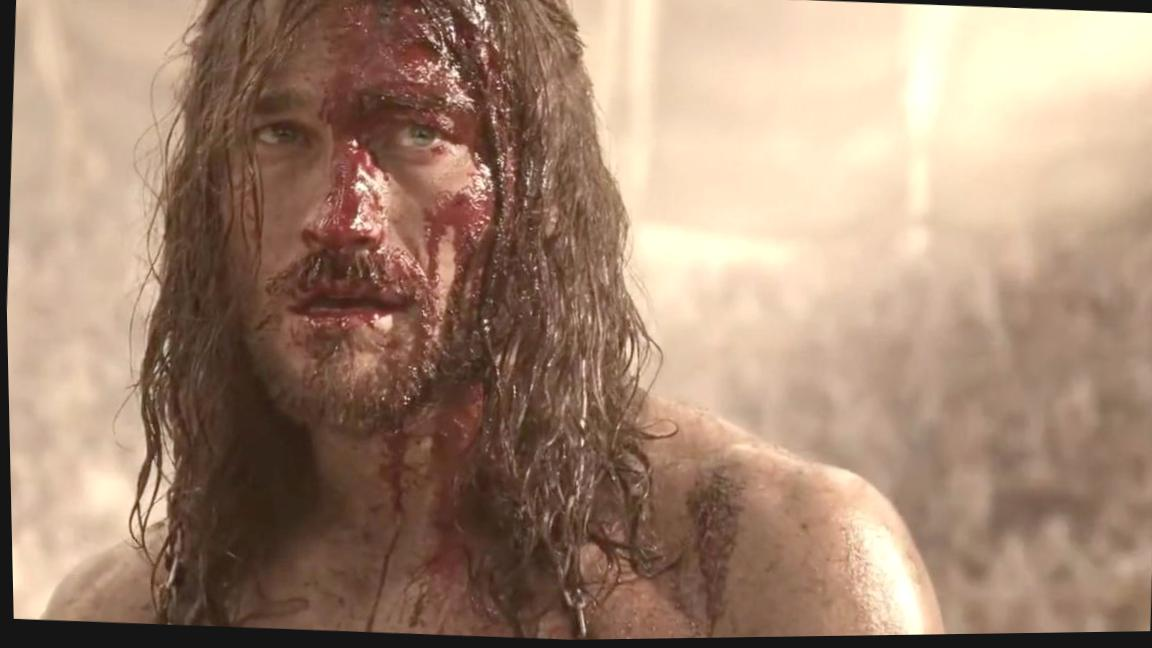Fire: (236, 2, 494, 433)
